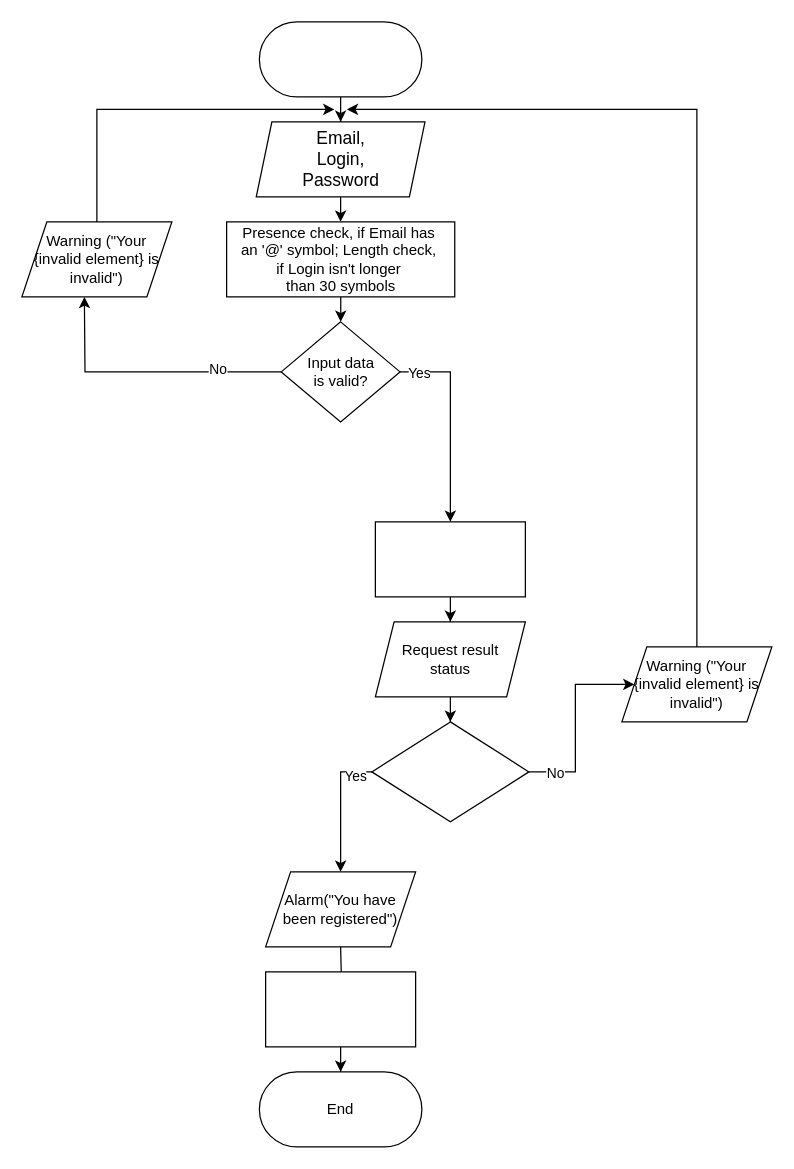
Some shapes in this 794 by 1169 pixel diagram are drawn without their labels. Here are the shapes that lost their labels. From the top down, the box of each, then its label:
(258, 21, 422, 97): Start
(374, 521, 525, 597): Database Request
(371, 721, 529, 822): result status is true?
(264, 971, 416, 1047): Redirect to account
